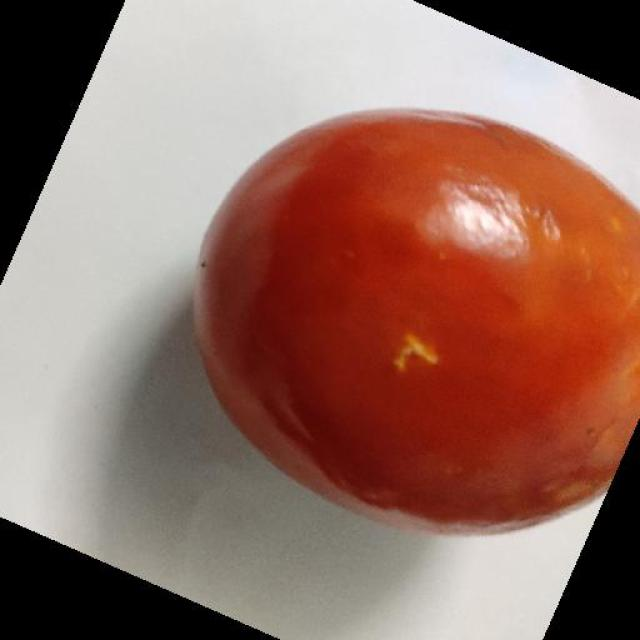Stale_tomato: (233, 96, 634, 507)
